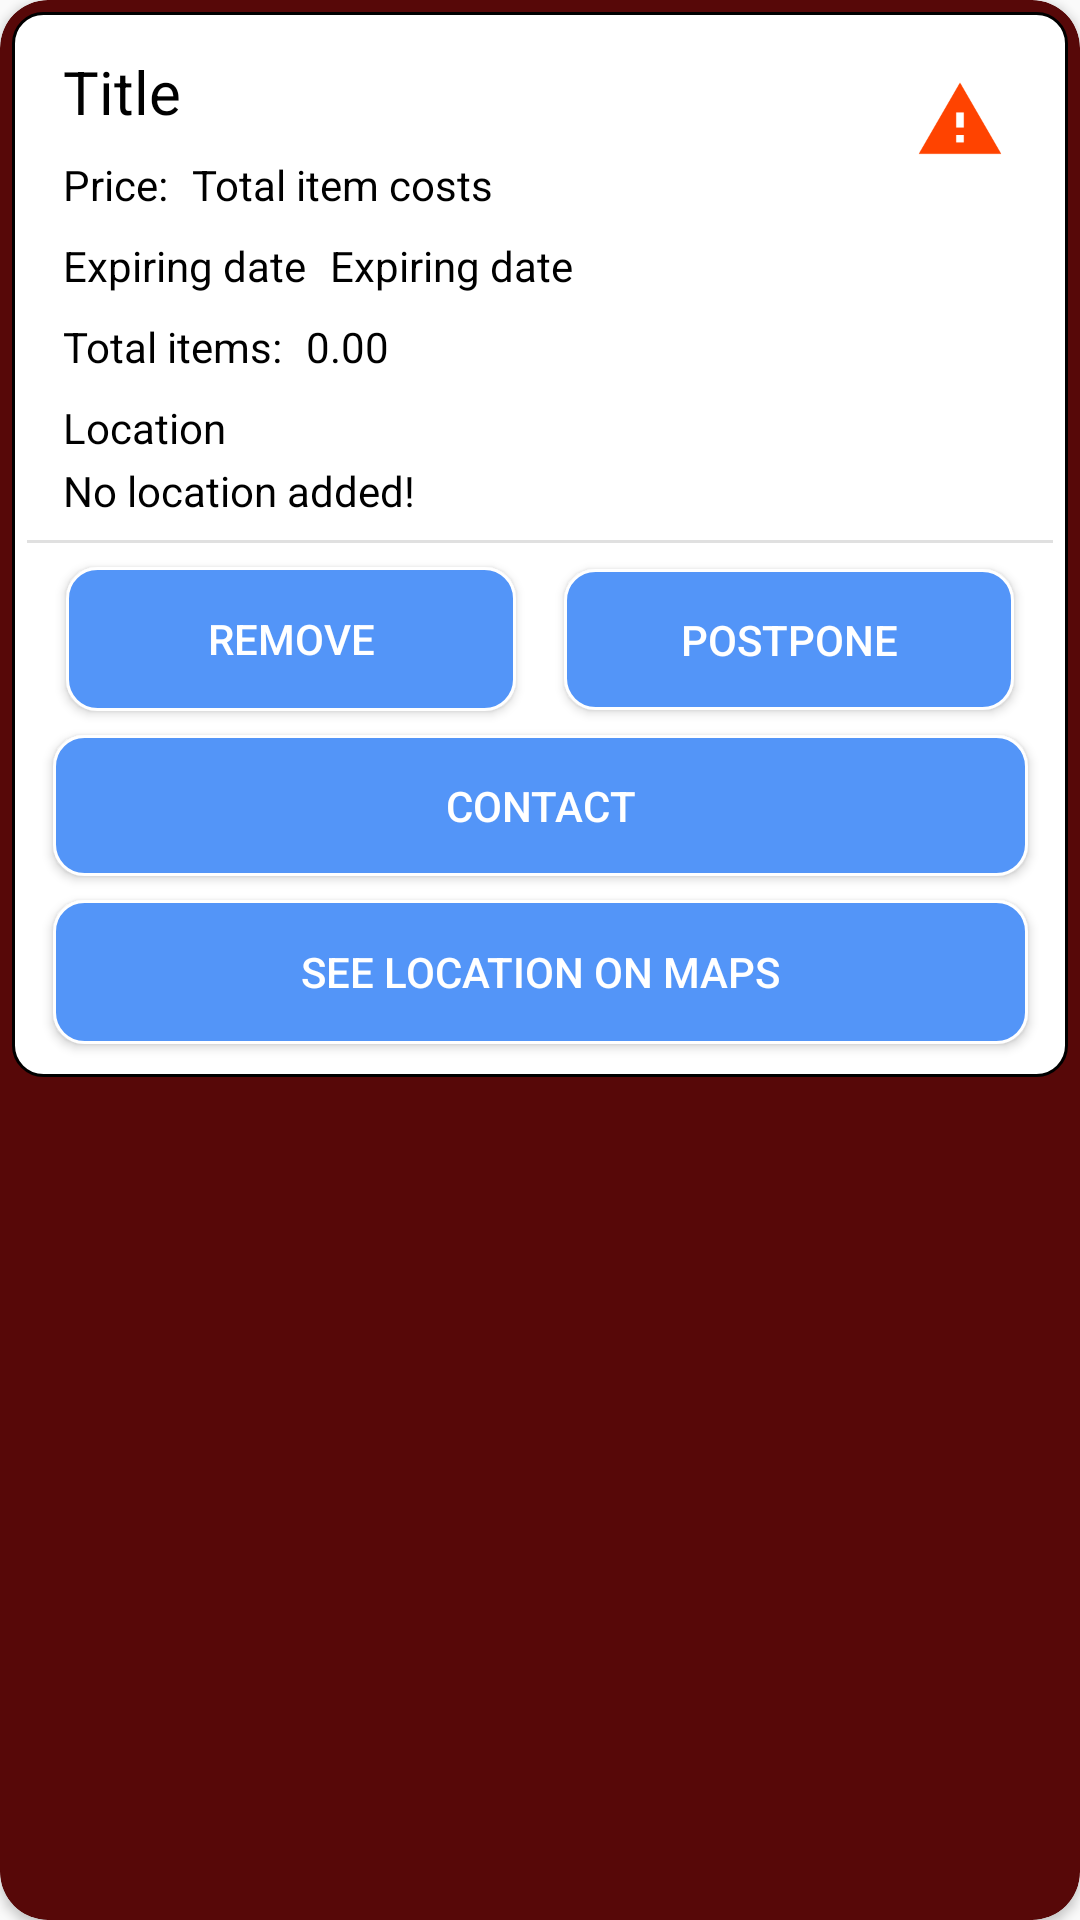

Icons on this 1080 × 1920 Android screen, each with its box as (x1, y1, x2, y2):
Warning icon: (919, 83, 1001, 154)
